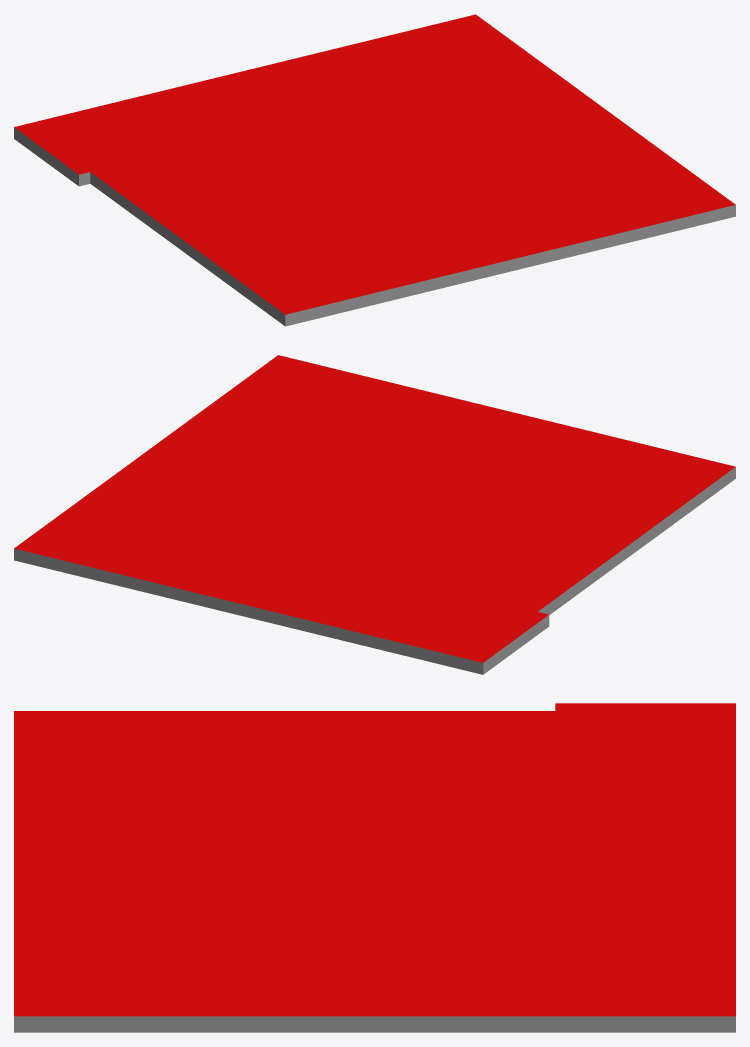
Rendered from BedroomCeiling.fbx.
3 views of the same model, one above another, from view 1: azimuth 30°, elevation 25°; view 2: azimuth 150°, elevation 25°; view 3: azimuth 270°, elevation 25° (orthographic). The views are drawn at different scales.
Parts seen in each view (by area): view 1: pCube55; view 2: pCube55; view 3: pCube55.
Boxes of the visible parts, left/top/right/bottom form: pCube55: left=14, top=14, right=735, bottom=326; pCube55: left=14, top=355, right=735, bottom=674; pCube55: left=14, top=703, right=735, bottom=1032.
Bounding box in the file's own units: 410 × 10 × 400.
